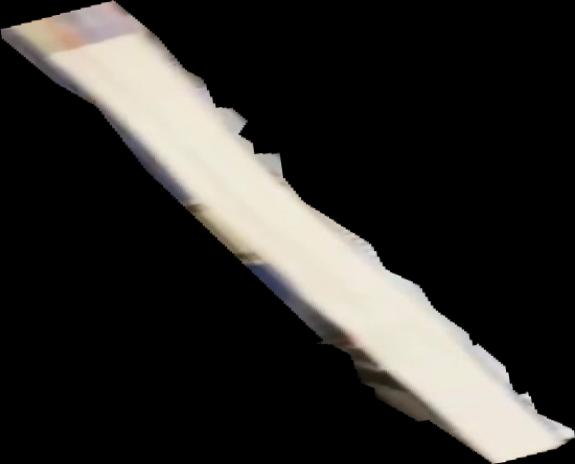backward: (1, 1, 575, 464)
